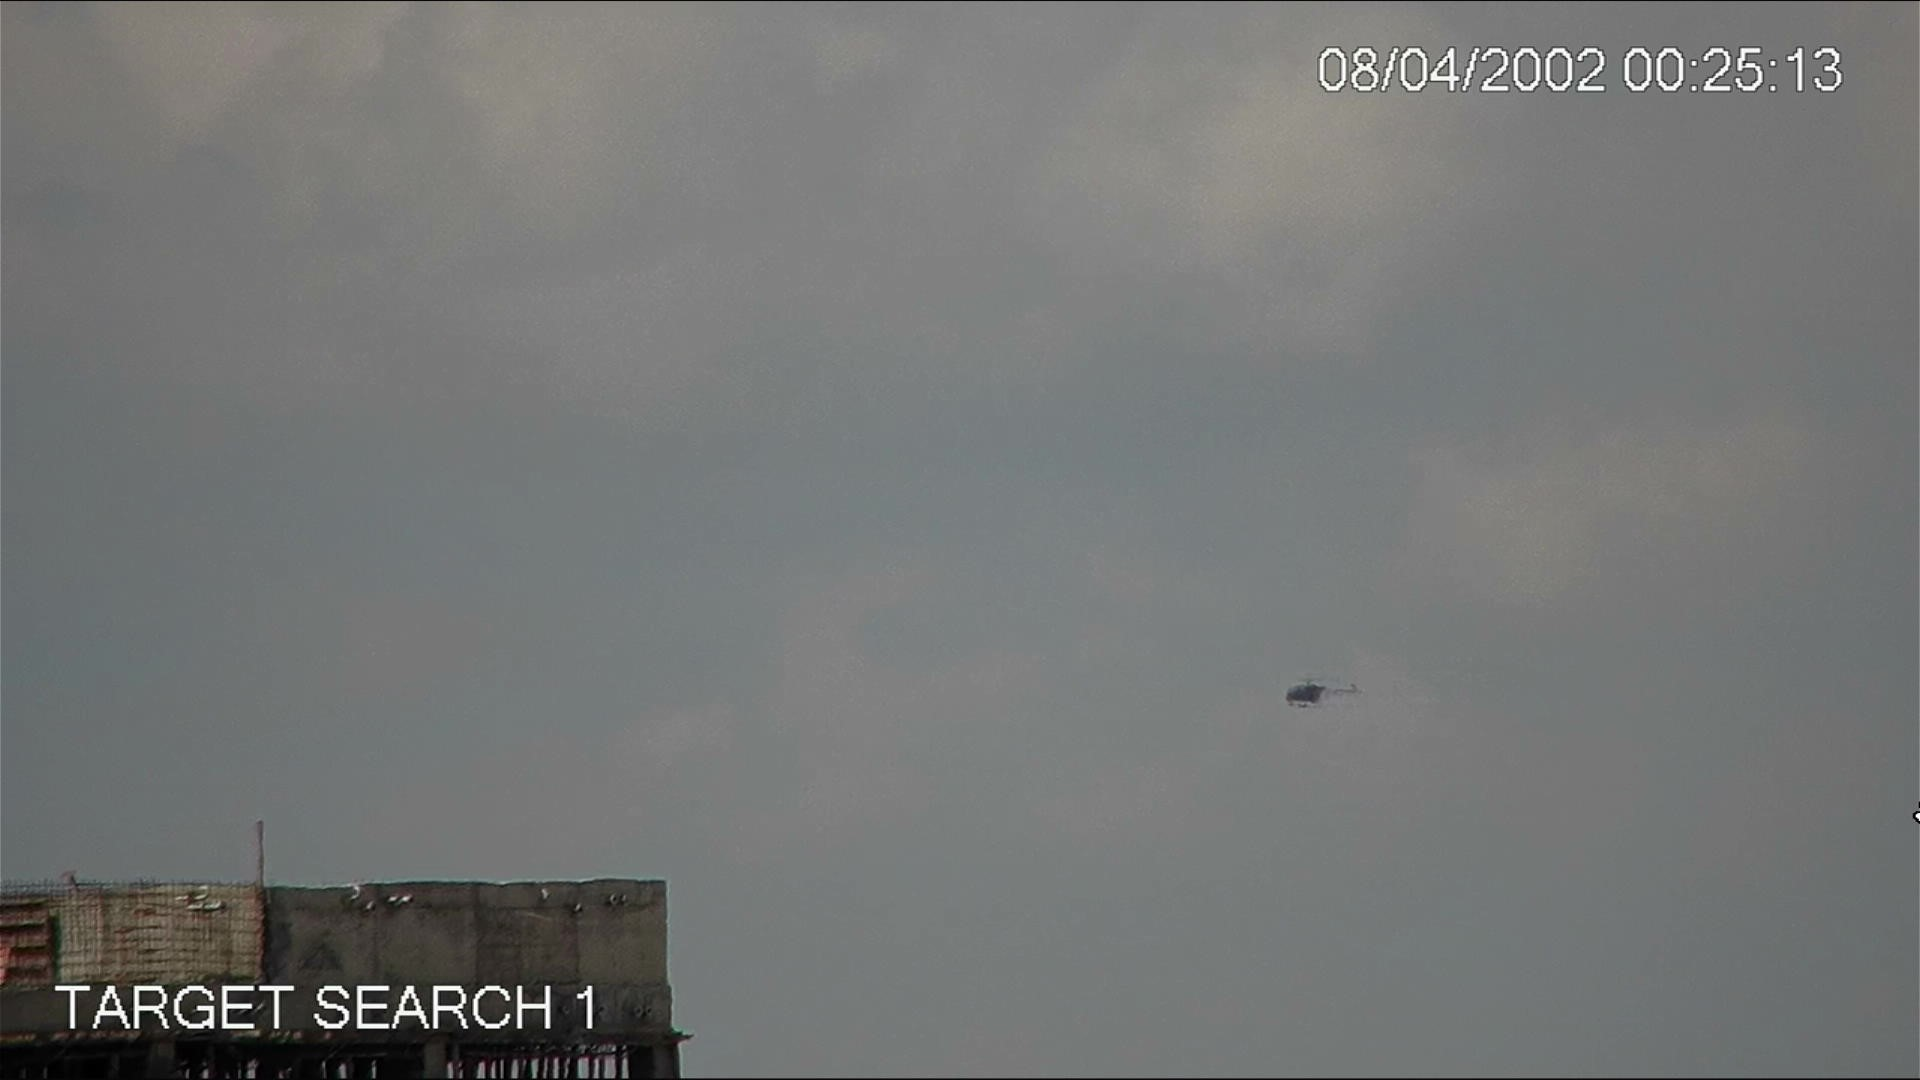SU_30: (1276, 667, 1364, 709)
